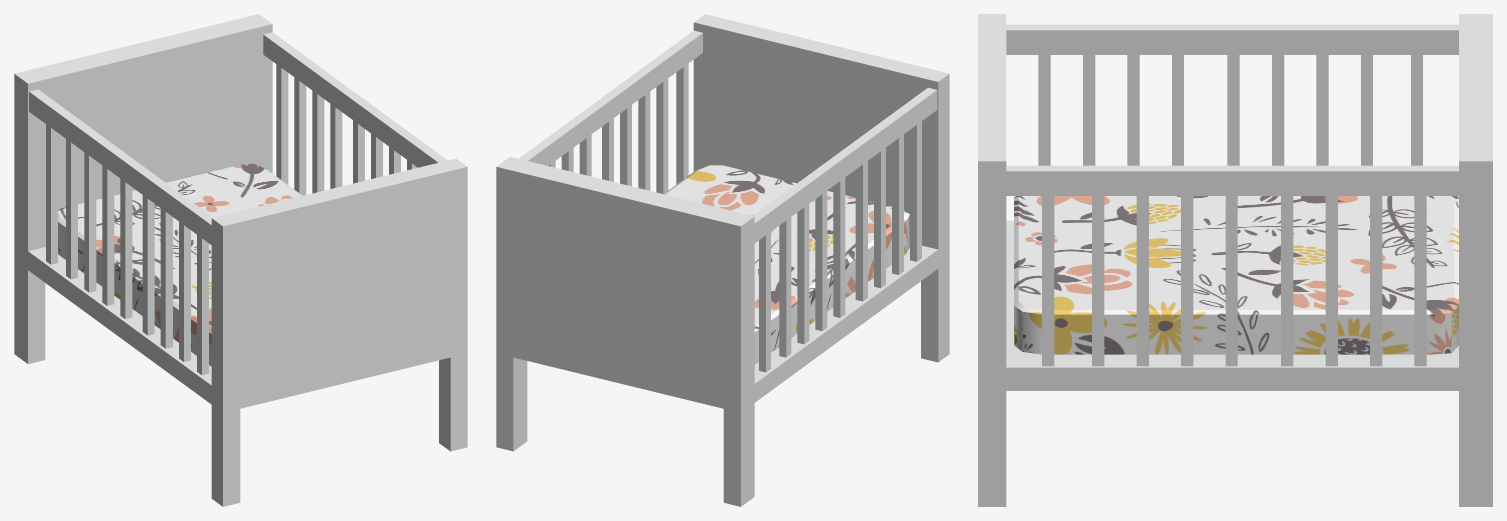
The model's file is Crib.fbx.
3 renders of one model, left to right at view 1: azimuth 30°, elevation 25°; view 2: azimuth 150°, elevation 25°; view 3: azimuth 270°, elevation 25°, orthographic. The views are drawn at different scales.
Visible parts, largest first — view 1: Crib1_group14_pCube59; view 2: Crib1_group14_pCube59; view 3: Crib1_group14_pCube59.
Part boxes in pixels (bbox=[...]): Crib1_group14_pCube59: bbox=[14, 14, 467, 506]; Crib1_group14_pCube59: bbox=[496, 14, 949, 506]; Crib1_group14_pCube59: bbox=[978, 14, 1492, 506].
Bounding box in the file's own units: 62.65 × 68.65 × 92.61.
